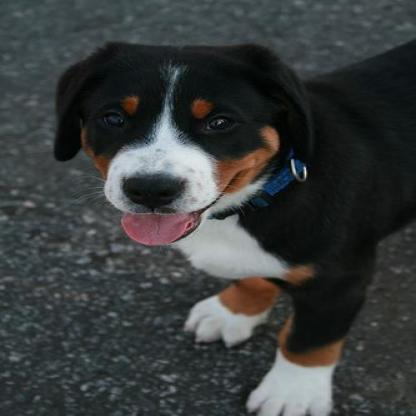Greater_Swiss_Mountain_dog: (51, 38, 412, 414)
